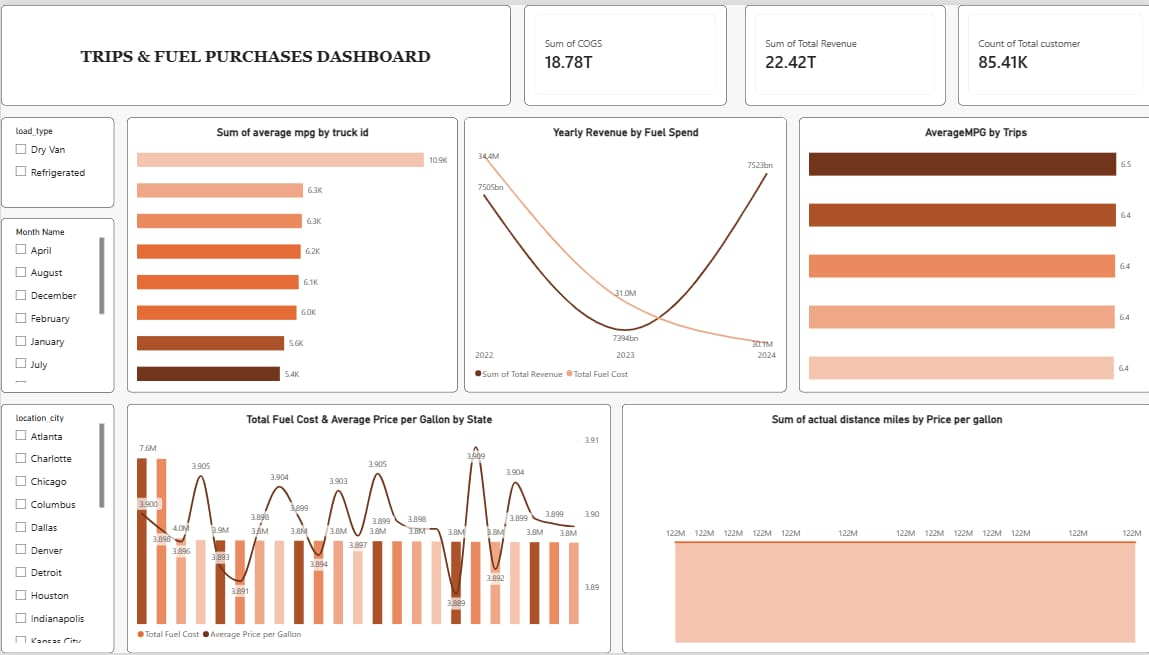

What the dashboard file says about the page in this screenshot:
{"tool":"powerbi","page":{"name":"Page 1","canvas":[1920,1080],"ordinal":0},"visuals":[{"type":"clusteredBarChart","title":"Sum of average mpg by truck id","fields":{"Category":["trips.truck_id"],"Y":["Sum(trips.average_mpg)"]},"box":[210,188.5,551.1,458.1],"z":0},{"type":"lineChart","title":"Yearly Revenue by Fuel Spend","fields":{"Category":["trips.dispatch_date.Variation.Date Hierarchy.Year","trips.dispatch_date.Variation.Date Hierarchy.Month"],"Y":["Sum(loads.Total Revenue)"],"Y2":["fuel_purchases.Total Fuel Cost"]},"box":[773,188.5,536.8,458.1],"z":1},{"type":"lineClusteredColumnComboChart","title":"Total Fuel Cost & Average Price per Gallon by State","fields":{"Category":["fuel_purchases.location_state"],"Y":["fuel_purchases.Total Fuel Cost"],"Y2":["fuel_purchases.Average Price per Gallon"]},"box":[210,665.7,806.4,415.1],"z":2},{"type":"barChart","title":"AverageMPG by Trips","fields":{"Category":["trips.driver_id"],"Y":["trips.AverageMPG"]},"box":[1329,188.5,589.3,458.1],"z":3},{"type":"areaChart","title":"Sum of actual distance miles by Price per gallon","fields":{"Category":["fuel_purchases.price_per_gallon"],"Y":["Sum(trips.actual_distance_miles)"]},"box":[1035.5,665.7,882.8,415.1],"z":4},{"type":"slicer","fields":{"Values":["fuel_purchases.location_city"]},"box":[0,665.7,188.5,415.1],"z":5},{"type":"slicer","fields":{"Values":["loads.load_type"]},"box":[0,188.5,188.5,150.3],"z":6},{"type":"slicer","fields":{"Values":["trips.Month Name"]},"box":[0,355.5,188.5,291.1],"z":7},{"type":"cardVisual","title":"COGS","fields":{"Data":["Sum(fuel_purchases.COGS)"]},"box":[873.2,0,336.4,167],"z":8},{"type":"cardVisual","fields":{"Data":["Sum(loads.Total Revenue)"]},"box":[1240.7,0,334,167],"z":9},{"type":"cardVisual","fields":{"Data":["CountNonNull(loads.Total customer)"]},"box":[1593.8,0,326.9,167],"z":10},{"type":"textbox","box":[0,0,849.4,167],"z":11}]}

Visuals, with their boxes in screenshot pixels (x1, y1, x2, y2), scaled from the page's 1920x1080 canvas onto the 1149x655 screenshot:
"Sum of average mpg by truck id" clusteredBarChart: (left=126, top=114, right=455, bottom=392)
"Yearly Revenue by Fuel Spend" lineChart: (left=463, top=114, right=784, bottom=392)
"Total Fuel Cost & Average Price per Gallon by State" lineClusteredColumnComboChart: (left=126, top=404, right=608, bottom=654)
"AverageMPG by Trips" barChart: (left=795, top=114, right=1148, bottom=392)
"Sum of actual distance miles by Price per gallon" areaChart: (left=620, top=404, right=1148, bottom=654)
slicer - fuel_purchases.location_city: (left=0, top=404, right=113, bottom=654)
slicer - loads.load_type: (left=0, top=114, right=113, bottom=205)
slicer - trips.Month Name: (left=0, top=216, right=113, bottom=392)
"COGS" cardVisual: (left=523, top=0, right=724, bottom=101)
cardVisual - Sum(loads.Total Revenue): (left=742, top=0, right=942, bottom=101)
cardVisual - CountNonNull(loads.Total customer): (left=954, top=0, right=1148, bottom=101)
textbox: (left=0, top=0, right=508, bottom=101)
